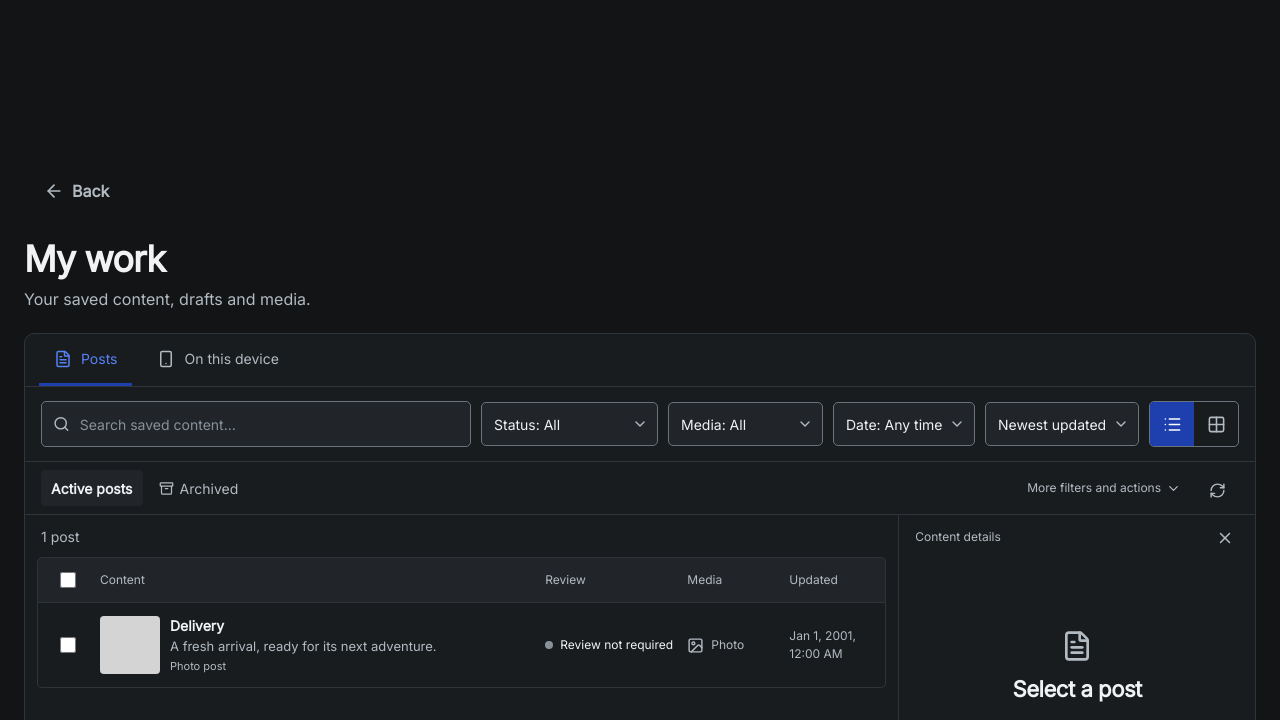
it: Content workspace › keeps recovery-media deletion confirmation available in its device collection
This screenshot has width=1280, height=720.
(page scrolled)
What coordinates should you click on to do the following:
click the button "On this device"
I would click on:
 (218, 360)
Its box is [142,334,294,386].
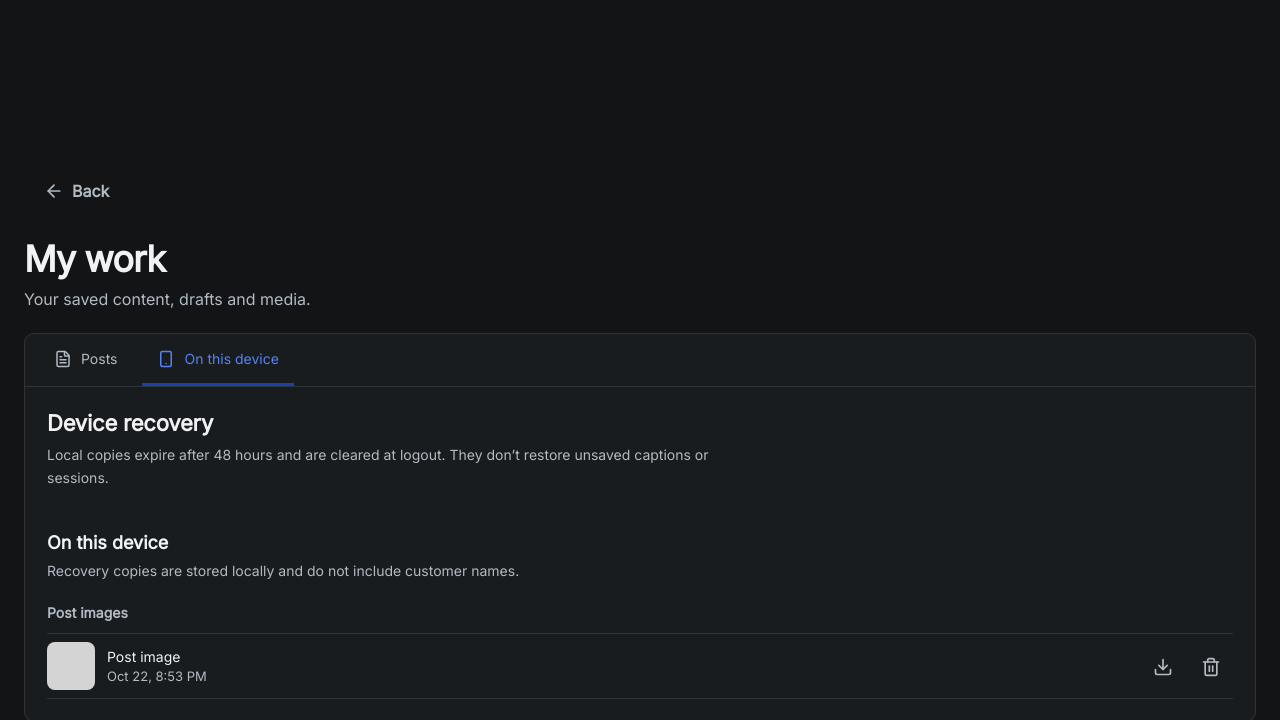
What coordinates should you click on to do the following:
click the button named "Delete post image from"
I would click on:
 (1211, 666)
Its box is [1189,644,1233,688].
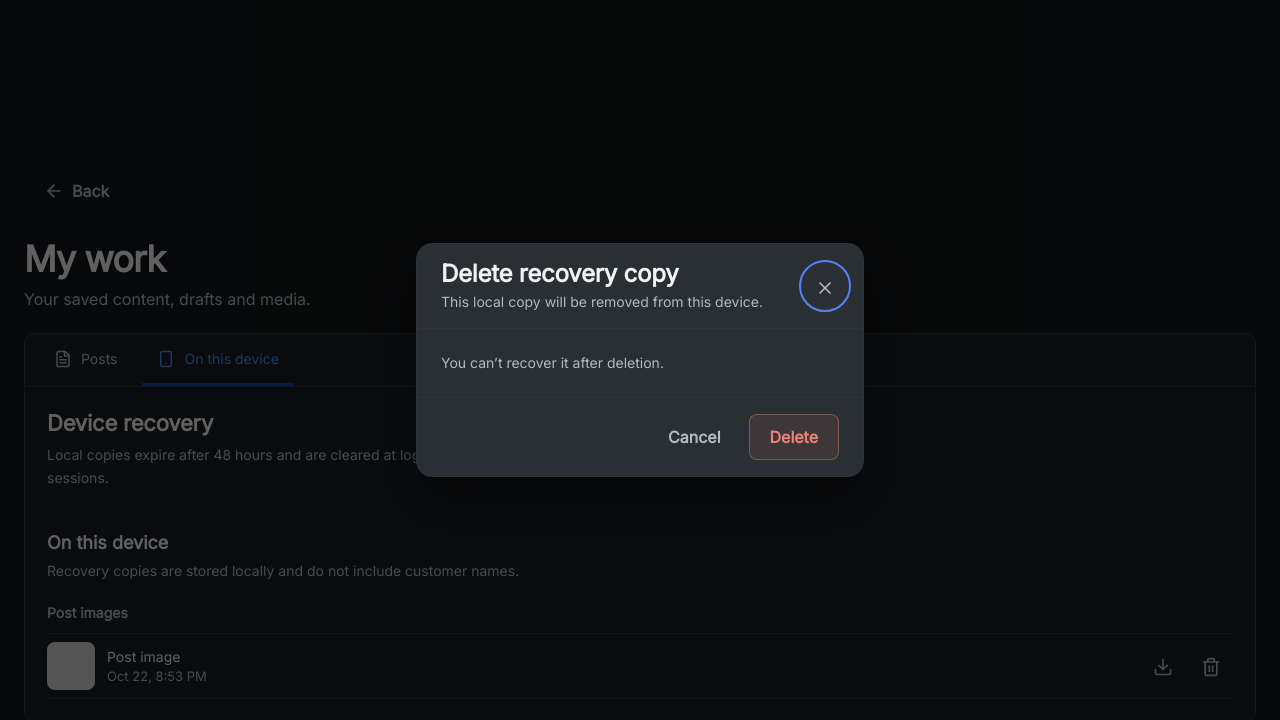
Expected: the dialog "Delete recovery copy" is shown, [416,243,864,477]
